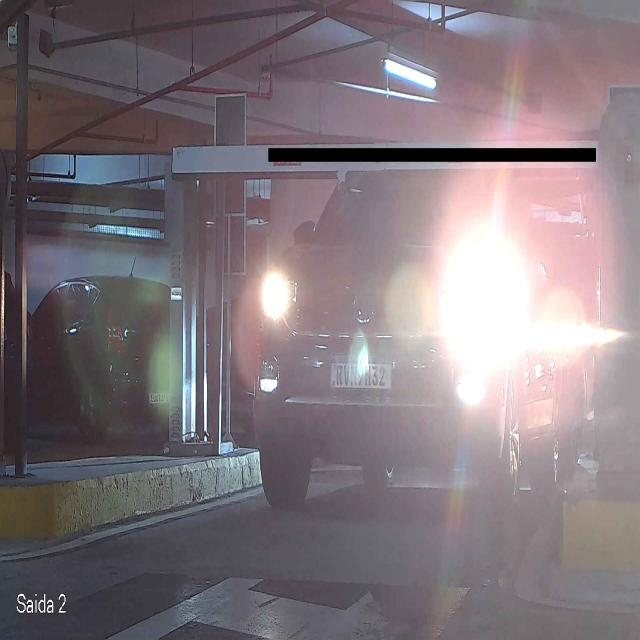mercosul_plate: (327, 355, 394, 391)
